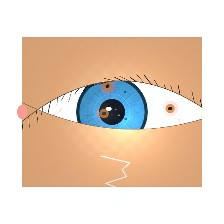foreign_body_visible: (97, 78, 118, 95)
